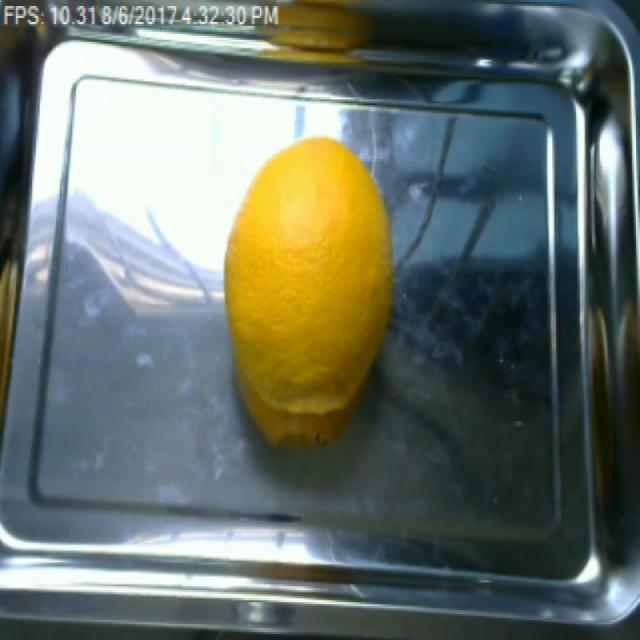Fruit: (222, 125, 394, 457)
